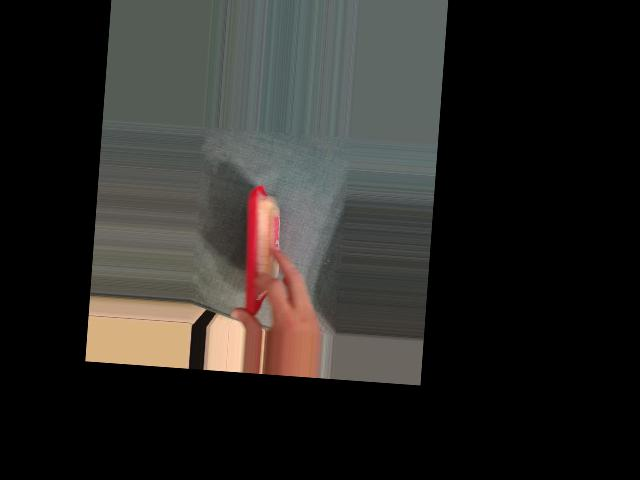cheese: (238, 183, 288, 320)
